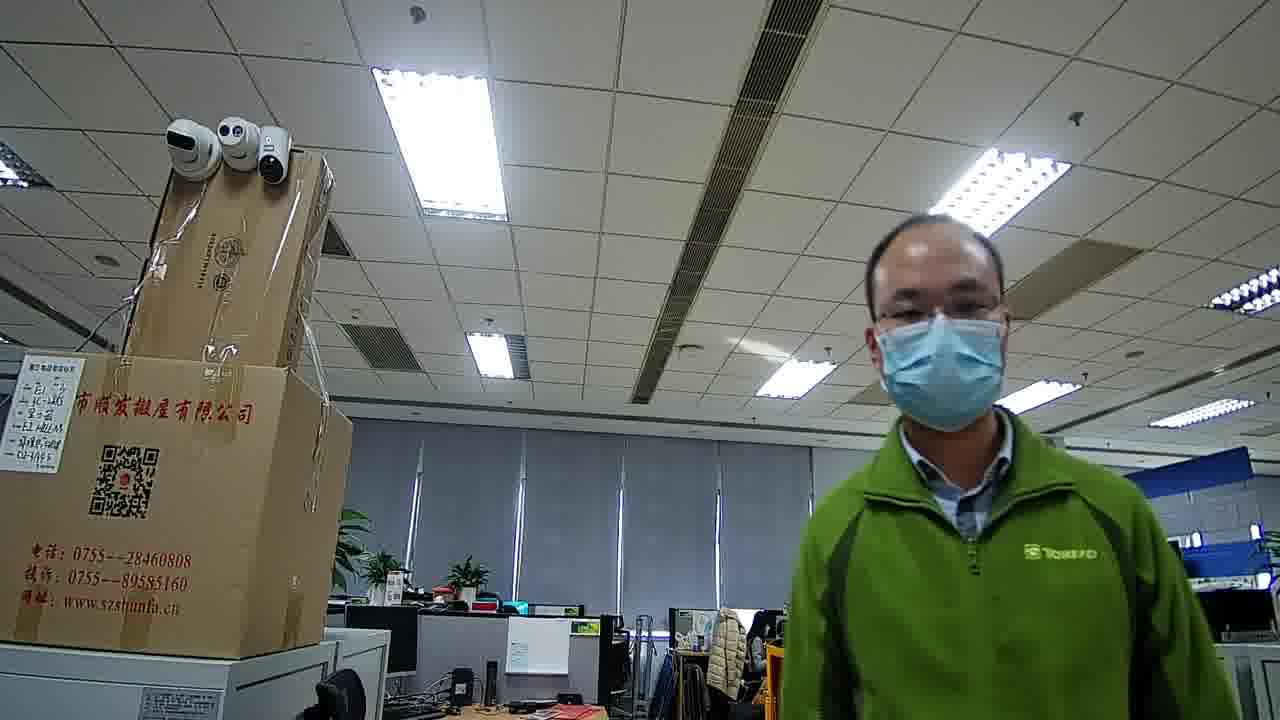face: (877, 231, 1003, 438)
mask: (875, 316, 1005, 436)
person: (786, 201, 1163, 572), (743, 608, 773, 648)
